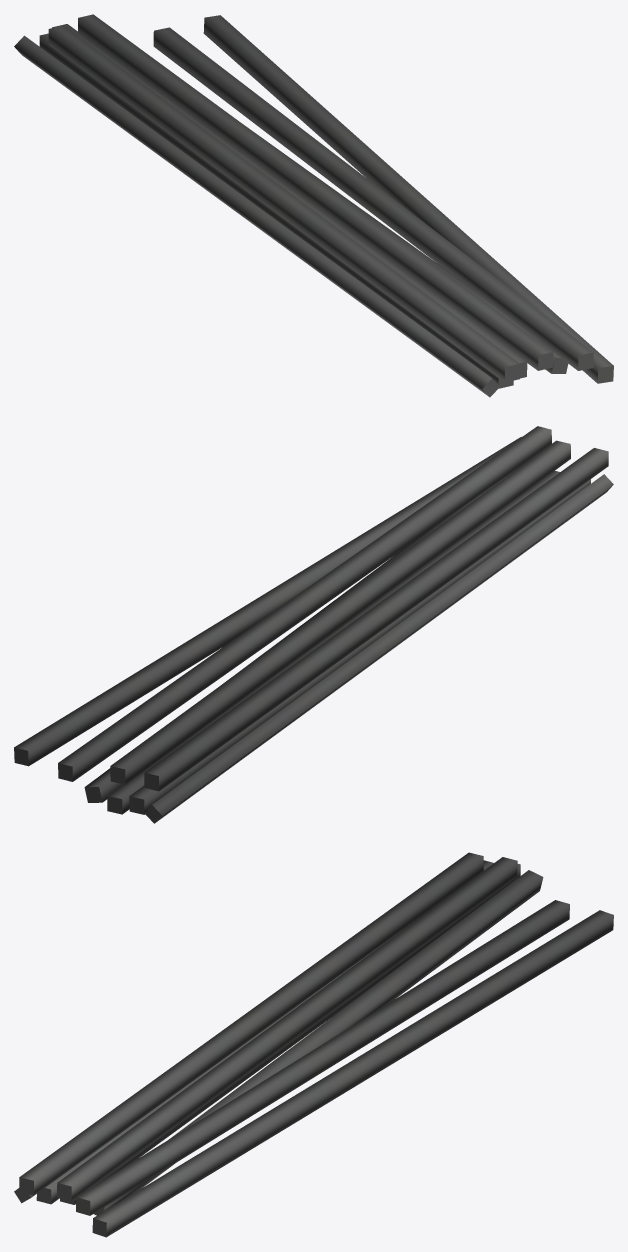
Rendered from BarsStack_3.glb.
3 views of the same model, one above another, from view 1: azimuth 30°, elevation 25°; view 2: azimuth 150°, elevation 25°; view 3: azimuth 330°, elevation 25° (orthographic). The views are drawn at different scales.
Parts seen in each view (by area): view 1: BarsStack_3; view 2: BarsStack_3; view 3: BarsStack_3.
Part boxes in pixels (x1,y1,x2,y2): BarsStack_3: [14, 14, 613, 397]; BarsStack_3: [14, 426, 613, 823]; BarsStack_3: [14, 852, 613, 1237].
Bounding box in the file's own units: 1.46 × 0.2859 × 6.84.
1 material, 1 textured.
